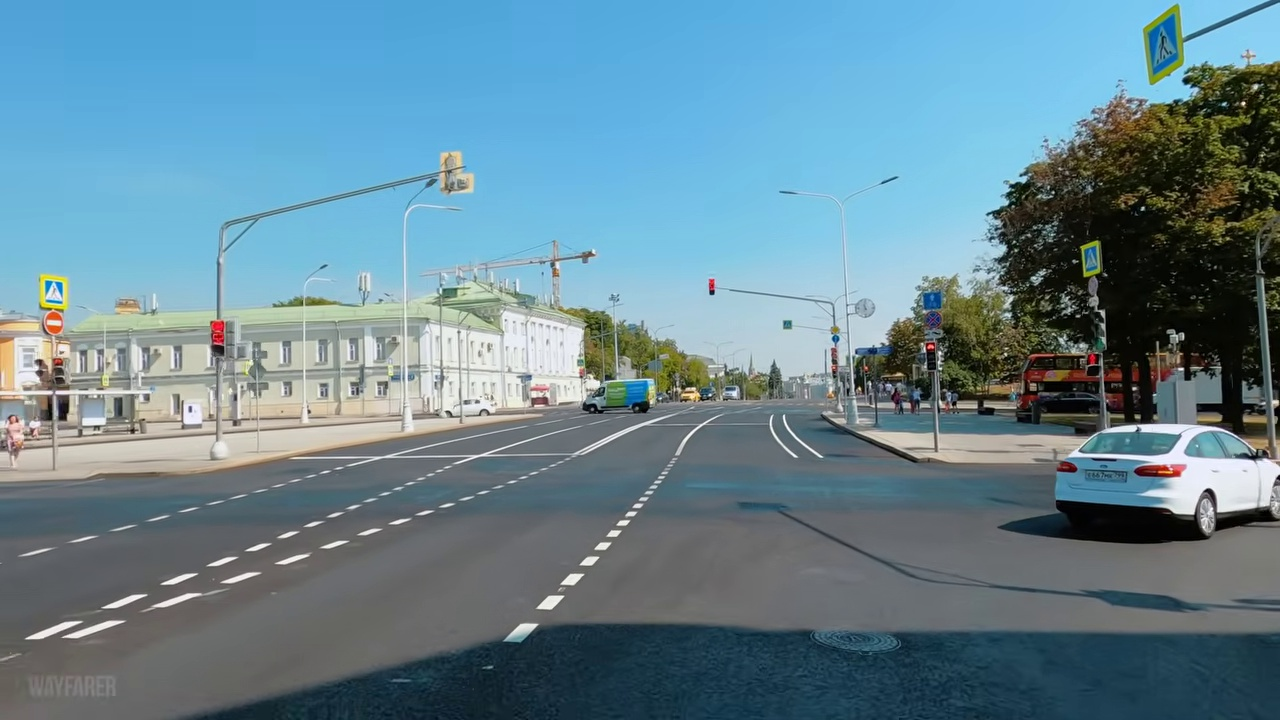apagada: (877, 171, 900, 191)
